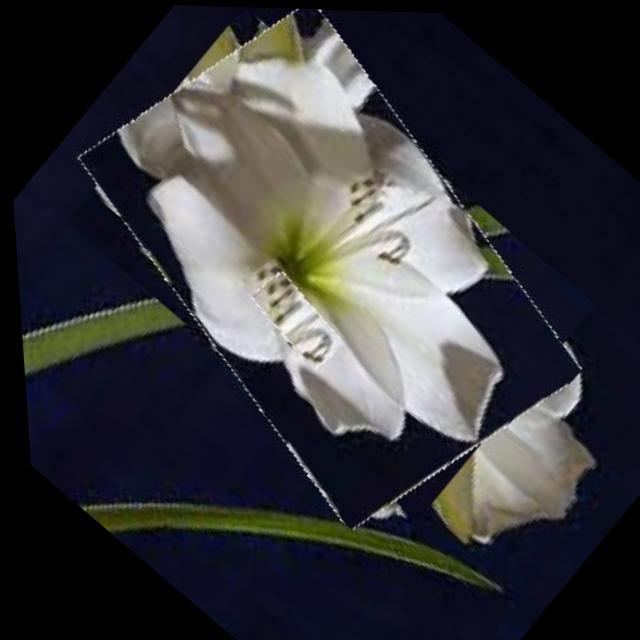Flower: (22, 1, 633, 555), (240, 268, 348, 370)
